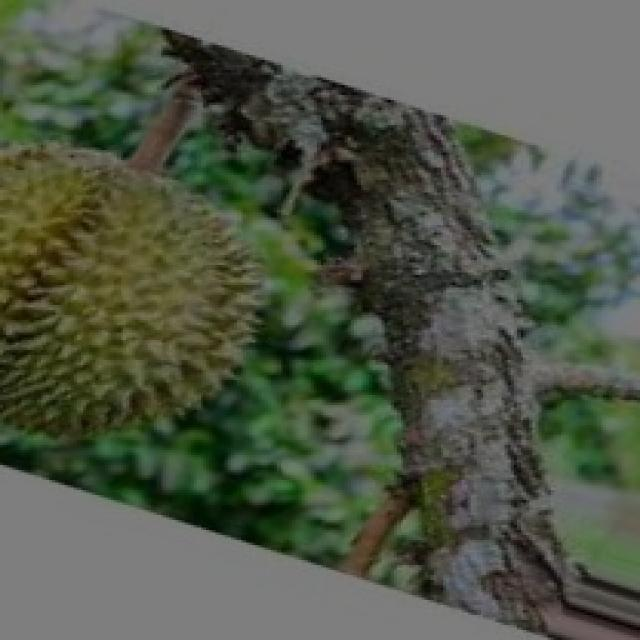fruit: (0, 108, 317, 498)
